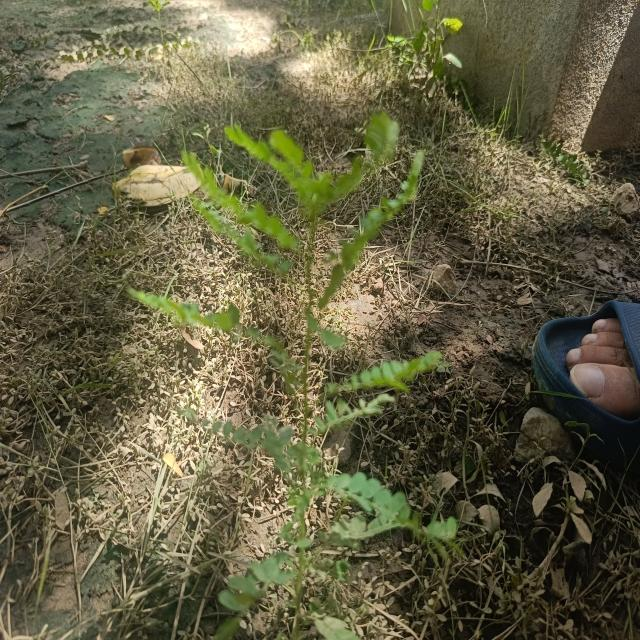weed: (123, 108, 483, 615)
